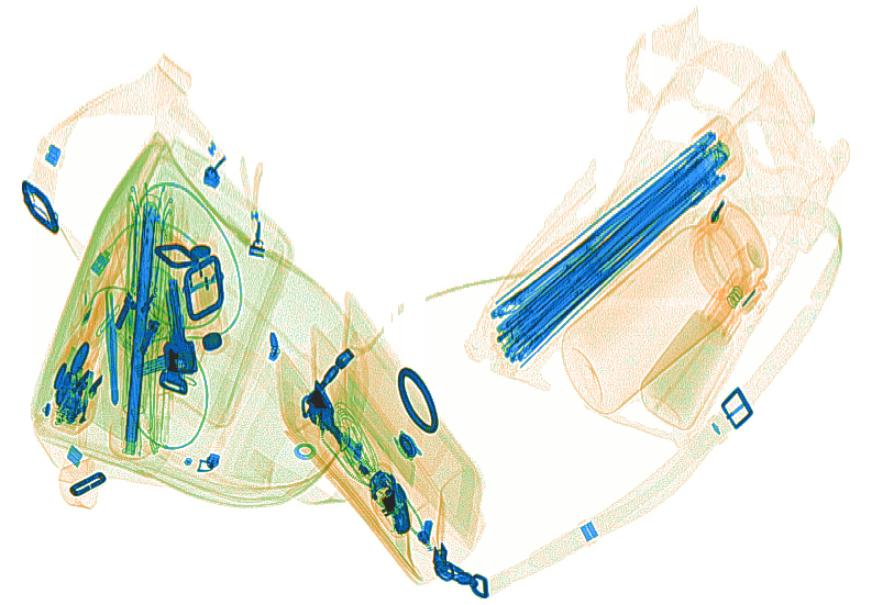plasticBottleWithaNozzle: (638, 272, 756, 431)
